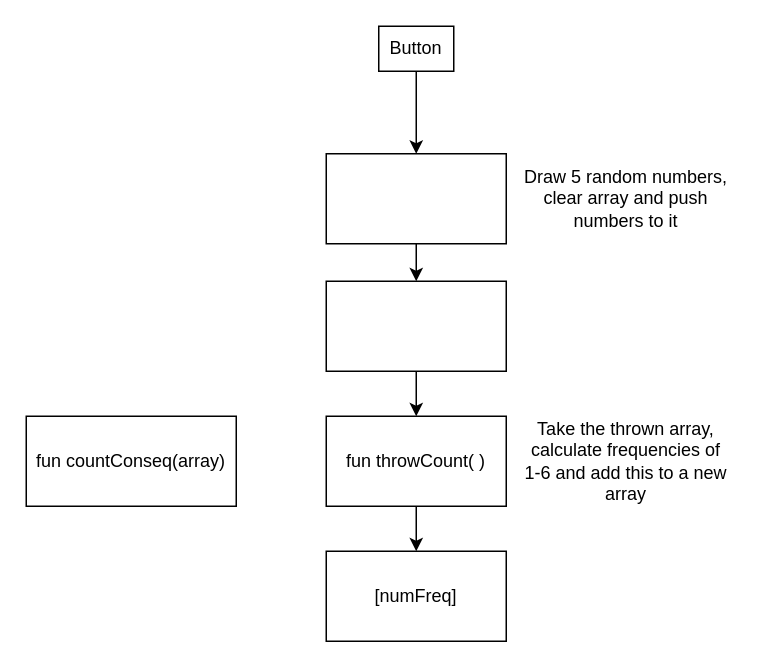
This 758x668 diagram has some shape labels left out. Each missing label, with the box of its shape:
[thrown]: (325, 280, 506, 371)
fun throwDice( ): (325, 152, 506, 244)
